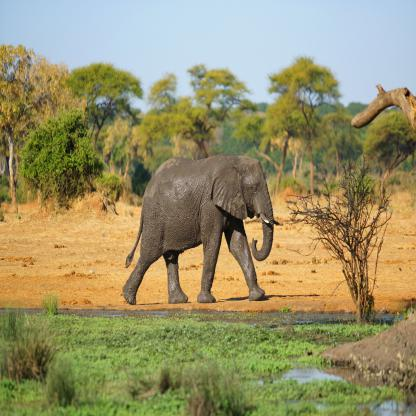Elephas-maximus: (122, 152, 278, 305)
